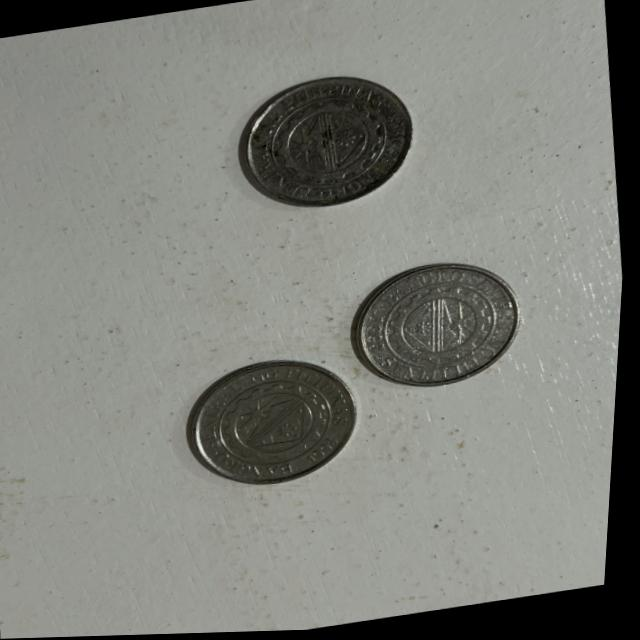1_Old_Back: (255, 81, 397, 197), (210, 374, 351, 477), (373, 280, 512, 379)
